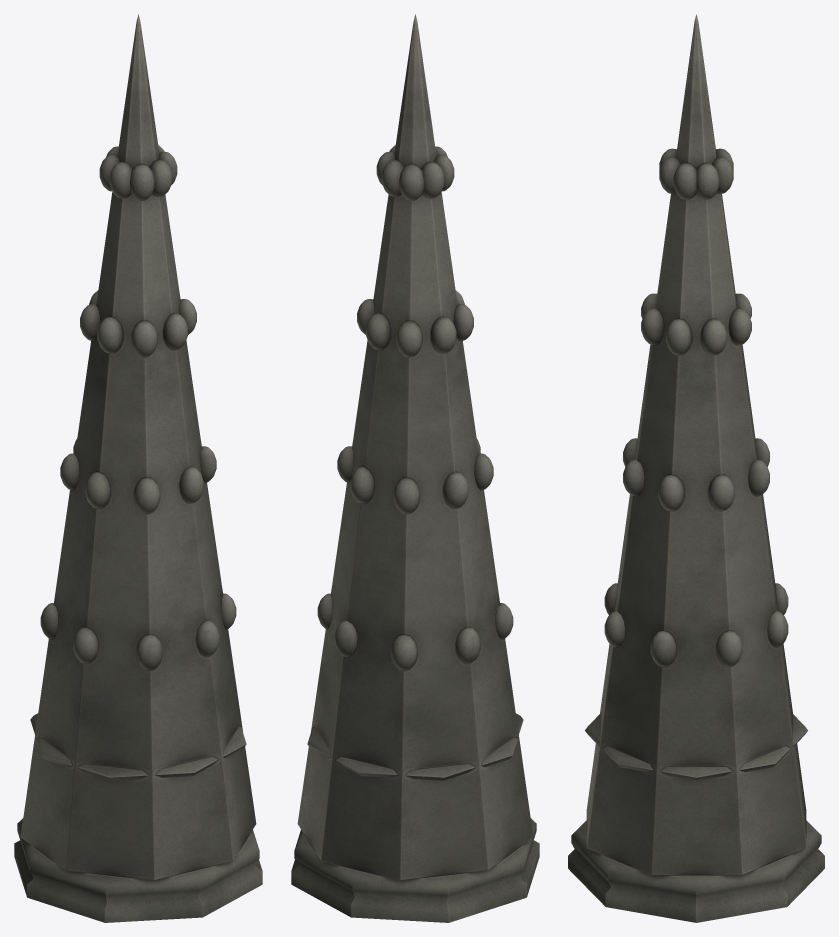
The model's file is Spire.fbx.
3 renders of one model, left to right at view 1: azimuth 30°, elevation 25°; view 2: azimuth 150°, elevation 25°; view 3: azimuth 270°, elevation 25°, orthographic.
Parts seen in each view (by area): view 1: Spire; view 2: Spire; view 3: Spire.
Boxes of the visible parts, left/top/right/bottom form: Spire: left=14, top=14, right=262, bottom=922; Spire: left=291, top=14, right=539, bottom=922; Spire: left=568, top=14, right=824, bottom=922.
Bounding box in the file's own units: 324 × 1190 × 324.
